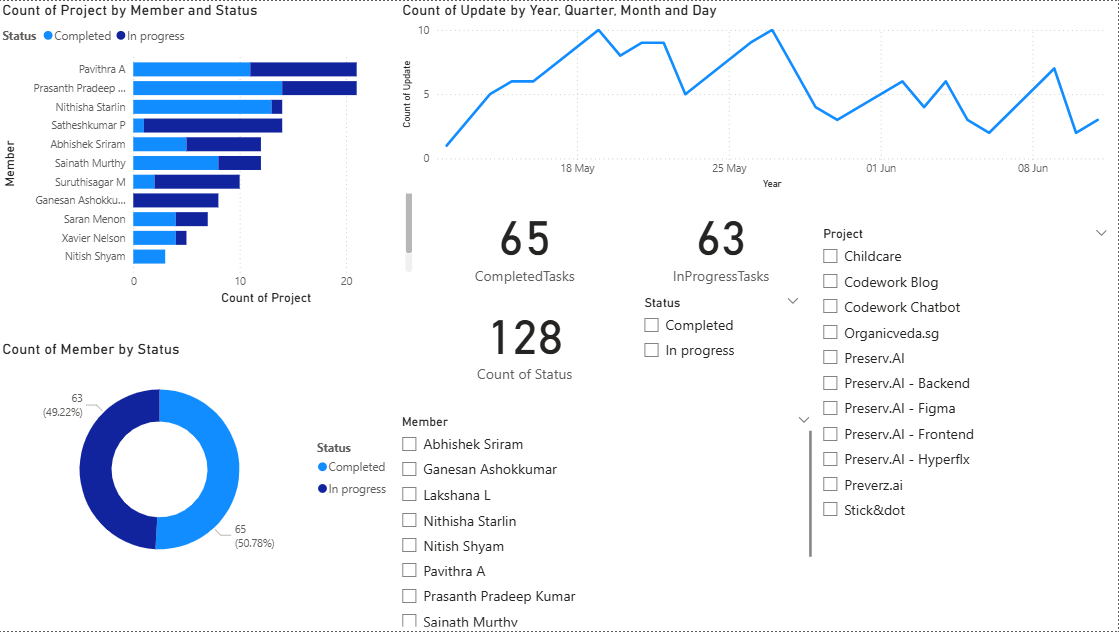

The page's visual inventory and layout, read from the dashboard file:
{"tool":"powerbi","page":{"name":"Page 2","canvas":[1280,720],"ordinal":0},"visuals":[{"type":"barChart","fields":{"Category":["Detail1.Member1"],"Y":["CountNonNull(Detail1.Project)"],"Series":["Detail1.Status"]},"box":[0,0,478.8,352.5],"z":0},{"type":"donutChart","fields":{"Category":["Detail1.Status1"],"Y":["CountNonNull(Detail1.Member)"]},"box":[0,387.5,457.5,277.5],"z":1000},{"type":"lineChart","fields":{"Y":["CountNonNull(Detail1.Update)"],"Category":["Detail1.Start Date.Variation.Date Hierarchy.Year","Detail1.Start Date.Variation.Date Hierarchy.Quarter","Detail1.Start Date.Variation.Date Hierarchy.Month","Detail1.Start Date.Variation.Date Hierarchy.Day"]},"box":[457.1,0,822.9,220],"z":2000},{"type":"card","fields":{"Values":["CountNonNull(Detail1.Status)"]},"box":[478.6,317.1,247.1,141.4],"z":3000},{"type":"card","fields":{"Values":["Detail1.CompletedTasks"]},"box":[478.6,220,247.1,111.4],"z":4000},{"type":"slicer","fields":{"Values":["Detail1.Member1"]},"box":[448.6,467.1,491.4,252.9],"z":6000},{"type":"slicer","fields":{"Values":["Detail1.Project1"]},"box":[930,252.9,350,467.1],"z":7000},{"type":"slicer","fields":{"Values":["Detail1.Status1"]},"box":[725.7,331.4,201.4,125.7],"z":8000},{"type":"card","fields":{"Values":["Detail1.InProgressTasks"]},"box":[725.7,220,201.4,111.4],"z":8001}]}

Visuals, with their boxes in screenshot pixels (x1, y1, x2, y2), scaled from the page's 1280x720 canvas onto the 1119x632 screenshot:
barChart - Detail1.Member1 x CountNonNull(Detail1.Project): select_region(0, 0, 419, 309)
donutChart - Detail1.Status1 x CountNonNull(Detail1.Member): select_region(0, 340, 400, 584)
lineChart - CountNonNull(Detail1.Update) x Detail1.Start Date.Variation.Date Hierarchy.Year: select_region(400, 0, 1118, 193)
card - CountNonNull(Detail1.Status): select_region(418, 278, 634, 402)
card - Detail1.CompletedTasks: select_region(418, 193, 634, 291)
slicer - Detail1.Member1: select_region(392, 410, 822, 631)
slicer - Detail1.Project1: select_region(813, 222, 1118, 631)
slicer - Detail1.Status1: select_region(634, 291, 810, 401)
card - Detail1.InProgressTasks: select_region(634, 193, 810, 291)
